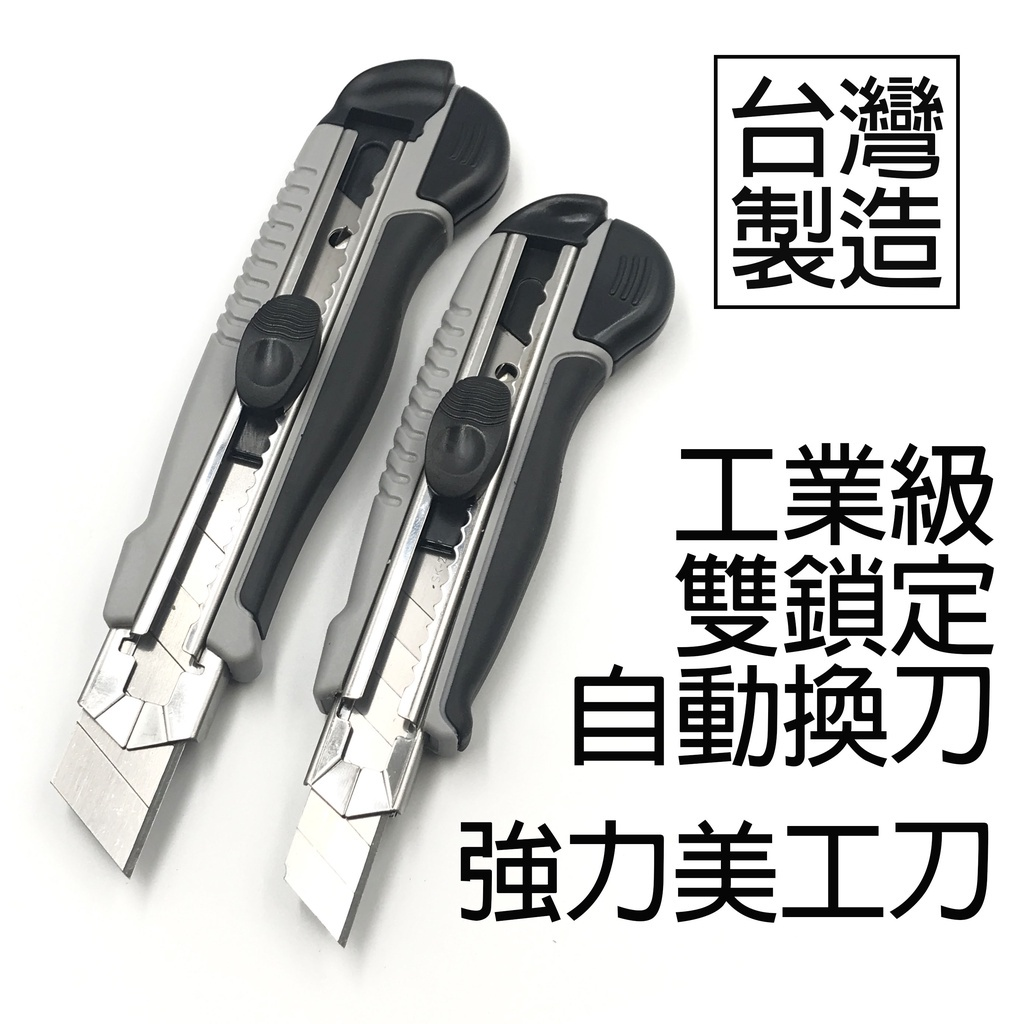cutter: (46, 52, 513, 884), (279, 189, 677, 951)
